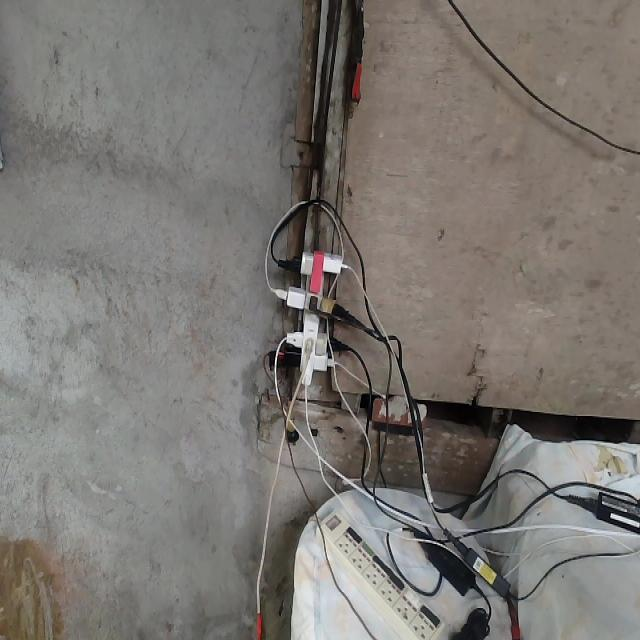-: (275, 247, 346, 388)
